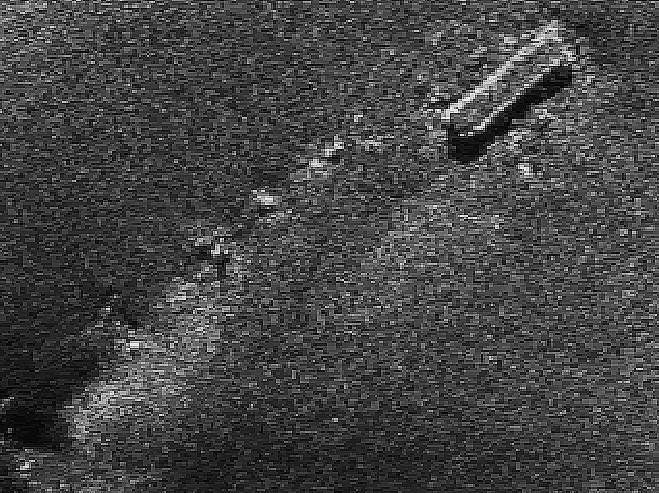ship: (434, 23, 585, 149)
